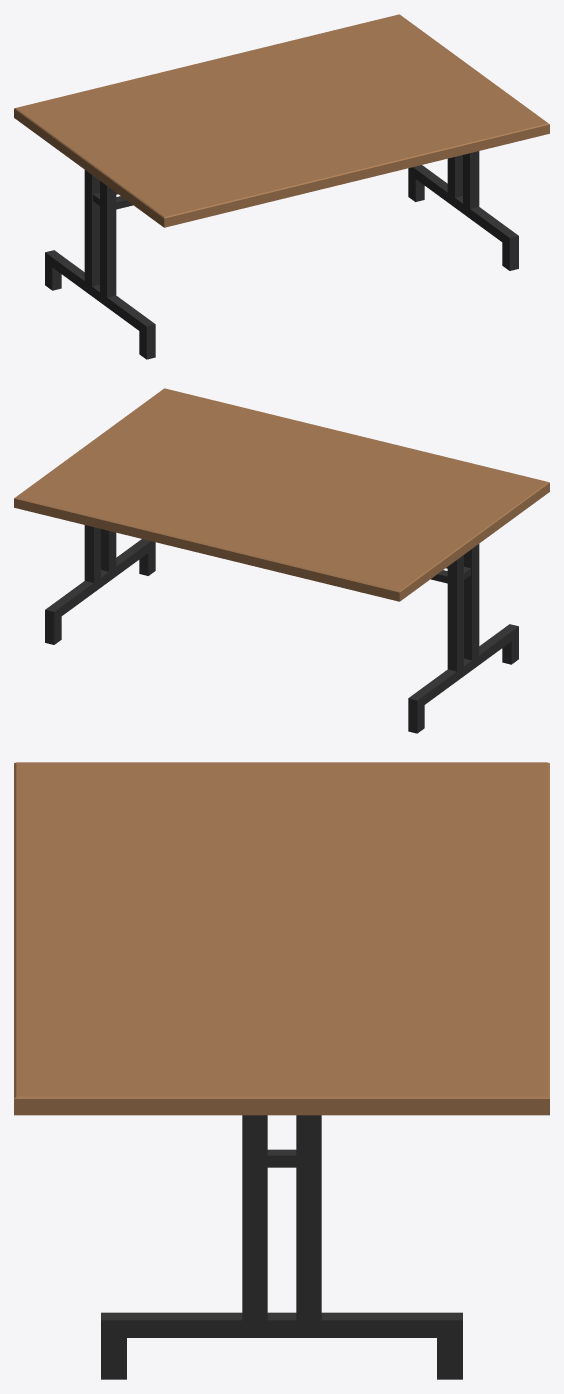
Rendered from Int_KitchenTable01_2.fbx.
3 renders of one model, top to bottom at view 1: azimuth 30°, elevation 25°; view 2: azimuth 150°, elevation 25°; view 3: azimuth 270°, elevation 25°, orthographic. The views are drawn at different scales.
Parts seen in each view (by area): view 1: Int_KitchenTable01_2; view 2: Int_KitchenTable01_2; view 3: Int_KitchenTable01_2.
Part boxes in pixels (x1,y1,x2,y2): Int_KitchenTable01_2: [14, 14, 549, 359]; Int_KitchenTable01_2: [14, 388, 549, 733]; Int_KitchenTable01_2: [14, 762, 549, 1379].
Size of what is drawn, in the model's own units: 200 by 135 by 80.
